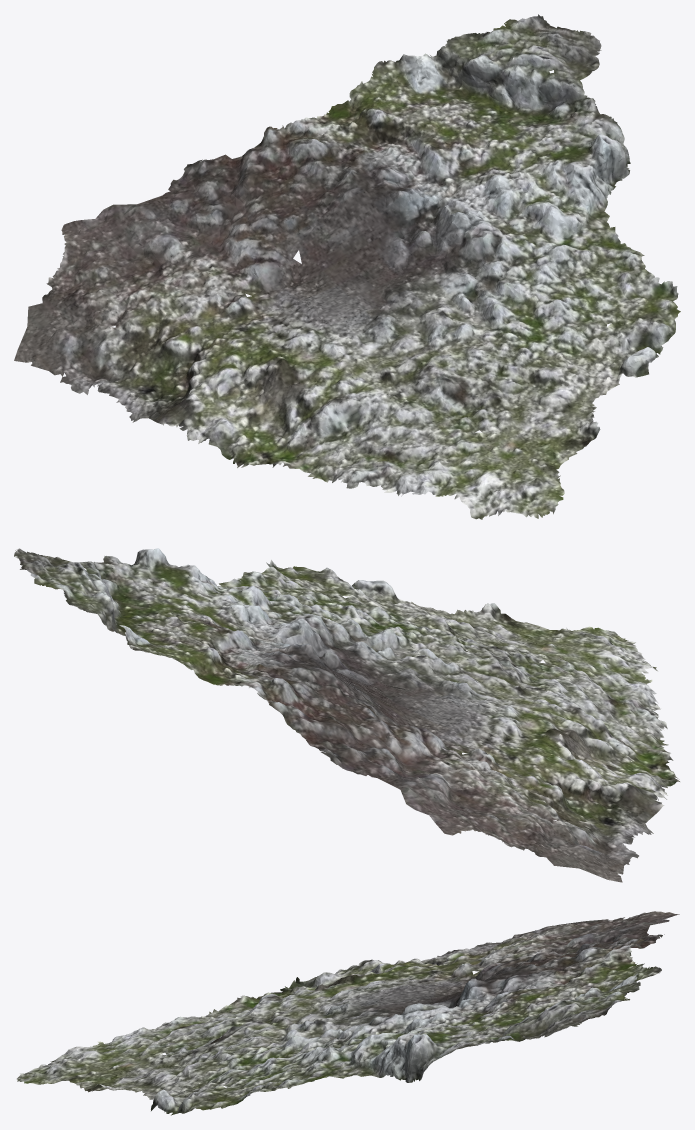
The picture shows the model from 3 angles, top to bottom: view 1: azimuth 30°, elevation 25°; view 2: azimuth 150°, elevation 25°; view 3: azimuth 270°, elevation 25°; orthographic projection. The views are drawn at different scales.
Bounding box in the file's own units: 27.82 × 10.08 × 27.11.
1 material, 1 textured.
